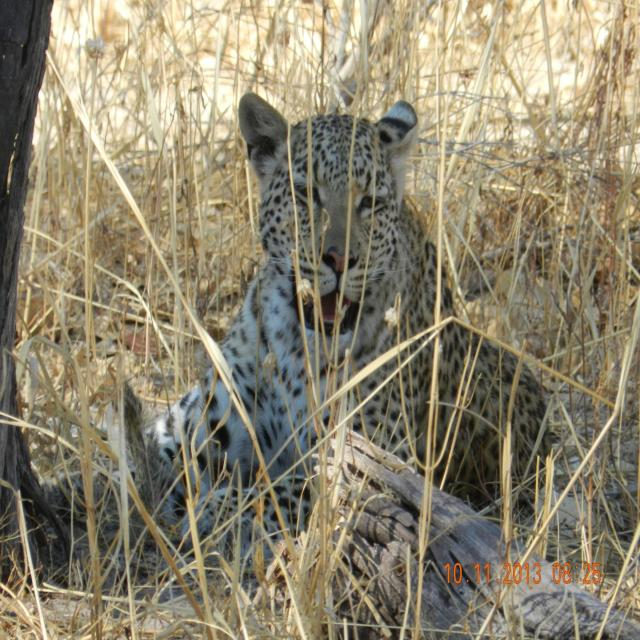Leopard: (46, 96, 564, 501)
